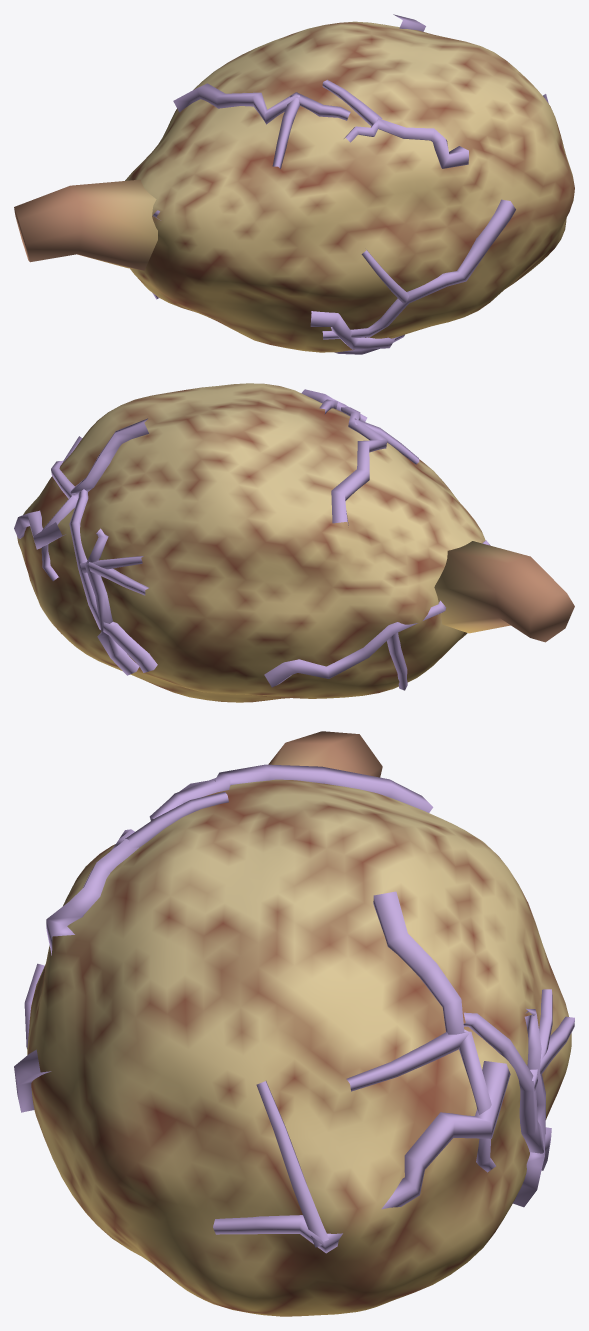
The model's file is gland.gltf.
3 views of the same model, one above another, from view 1: azimuth 30°, elevation 25°; view 2: azimuth 150°, elevation 25°; view 3: azimuth 270°, elevation 25° (orthographic). The views are drawn at different scales.
Parts seen in each view (by area): view 1: gland, gland_core; view 2: gland, gland_core; view 3: gland, gland_core.
Boxes of the visible parts, x1,y1,x2,y2 form: gland: (14,21,574,352); gland_core: (152,14,548,354); gland: (17,383,574,702); gland_core: (14,389,490,690); gland: (27,731,571,1316); gland_core: (14,764,574,1253).
Size of the model in its own units: 1.05 by 0.5286 by 0.6101.
